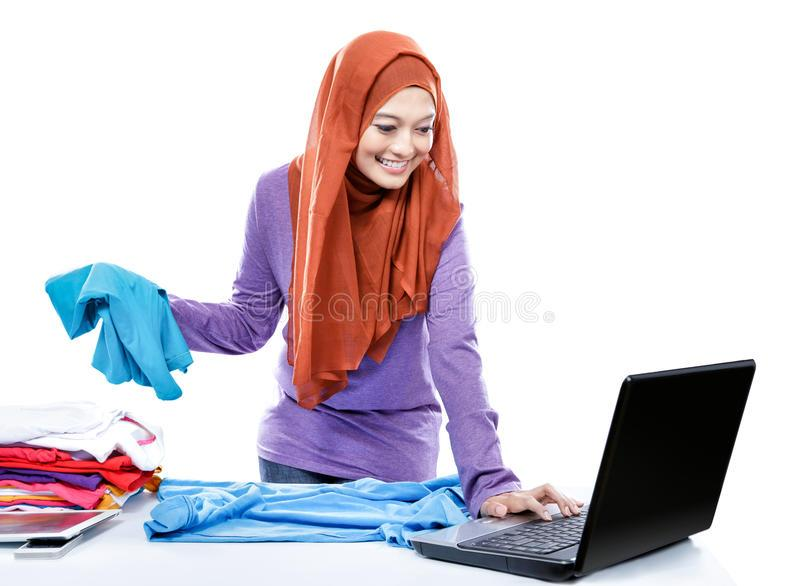No Mask: (334, 61, 468, 205)
